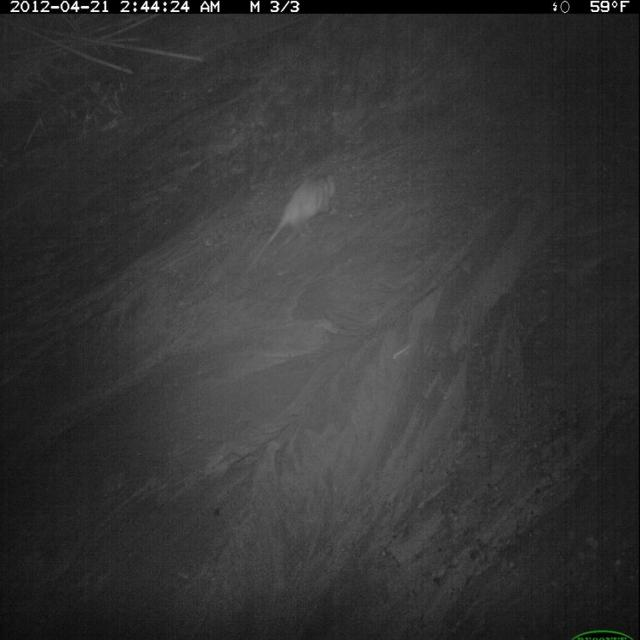opossum: (253, 171, 341, 267)
